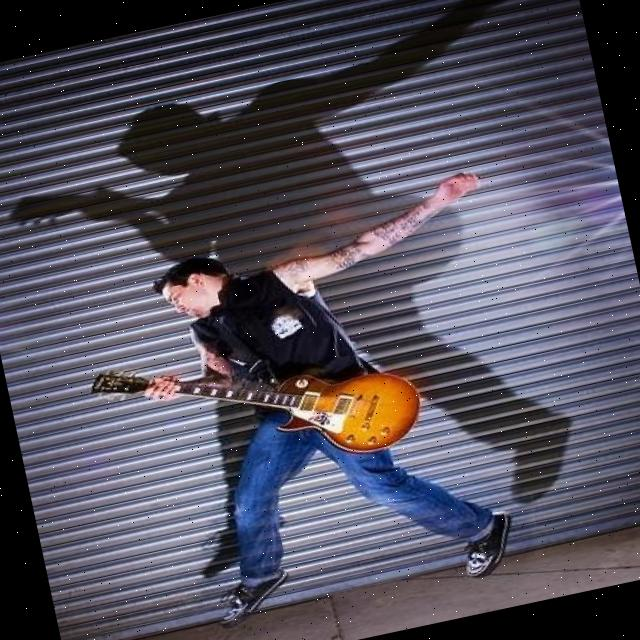guitar: (85, 307, 438, 508)
